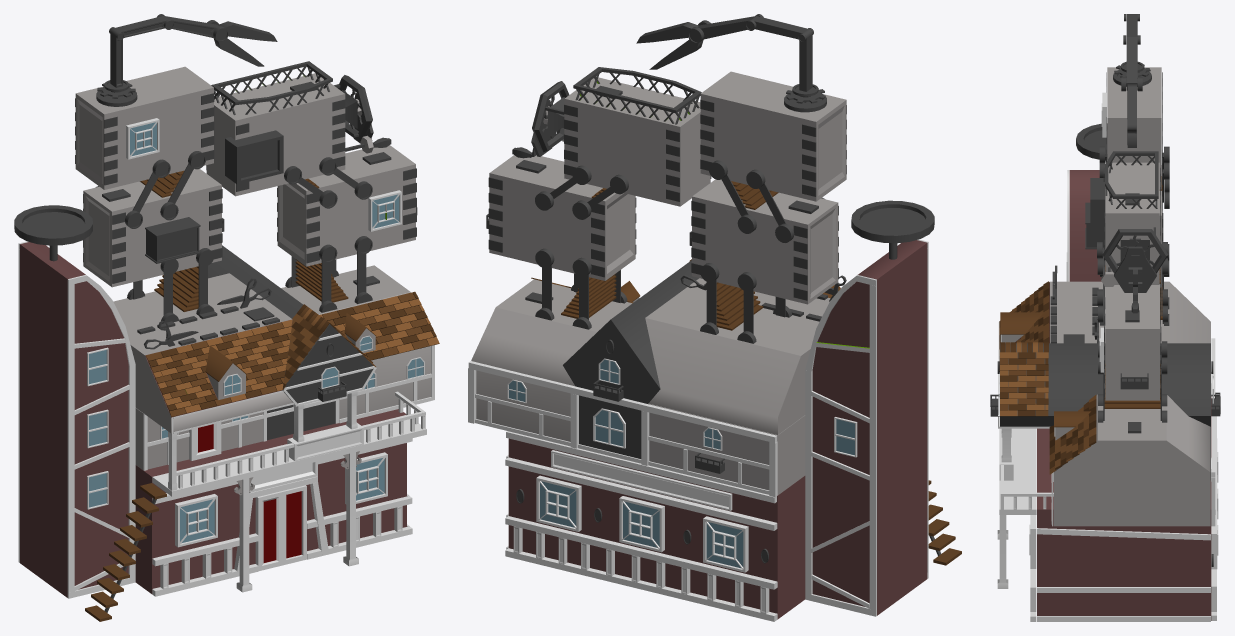
Rendered from HUB_Bld_Tailor.fbx.
3 views of the same model, side by side, from view 1: azimuth 30°, elevation 25°; view 2: azimuth 150°, elevation 25°; view 3: azimuth 270°, elevation 25° (orthographic). The views are drawn at different scales.
Visible parts, largest first — view 1: Tailor; view 2: Tailor; view 3: Tailor.
Boxes of the visible parts, <box> form: Tailor: <box>14,14,439,621</box>; Tailor: <box>468,14,961,621</box>; Tailor: <box>990,14,1220,621</box>.
Bounding box in the file's own units: 5042 × 6294 × 2643.
